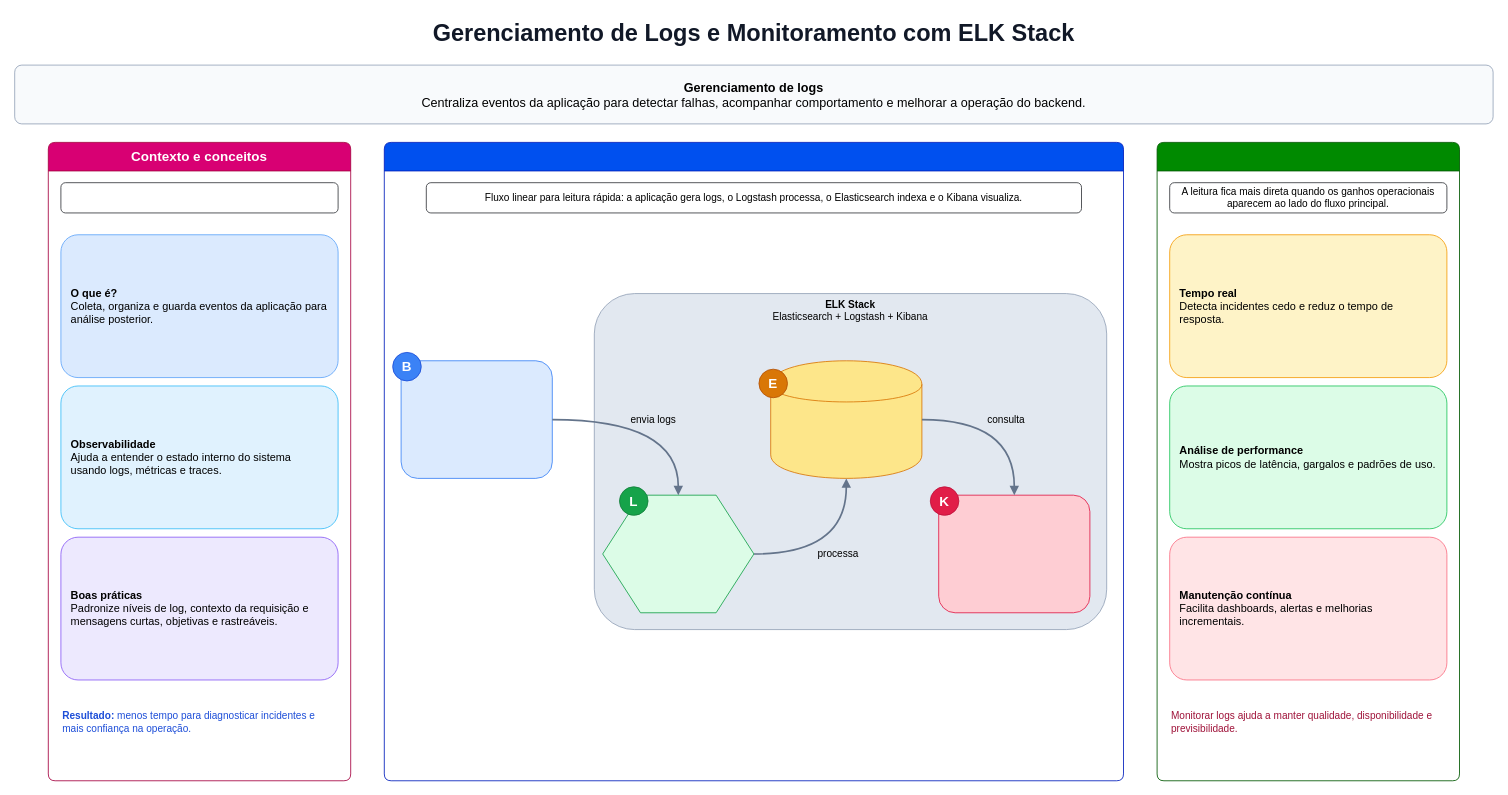
Some shapes in this 1508 by 795 pixel diagram are drawn without their labels. The shapes that lost their labels are listed below. From the top down, each one's box as (x1, y1, x2, y2) in pixels, then its label:
(60, 182, 338, 213): Uma base clara para entender por que o ELK é útil no dia a dia do backend.
(400, 360, 552, 478): Aplicação Backend Gera logs de requisições, erros e métricas.
(770, 360, 922, 478): Elasticsearch Armazena e indexa os logs para consulta rápida.
(383, 142, 1124, 781): Fluxo principal do ELK Stack
(1156, 142, 1460, 781): Benefícios do monitoramento
(602, 494, 754, 613): Logstash Filtra, transforma e encaminha os eventos.
(938, 494, 1090, 613): Kibana Visualiza logs e cria dashboards interativos.
